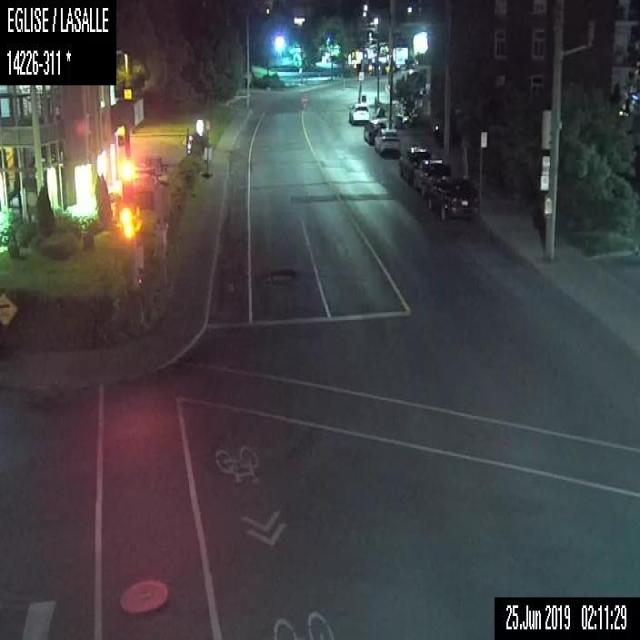vehicle: (426, 176, 481, 219), (412, 155, 449, 195), (396, 144, 428, 185), (373, 126, 402, 158), (362, 117, 387, 146), (186, 133, 208, 159), (348, 102, 370, 125)
